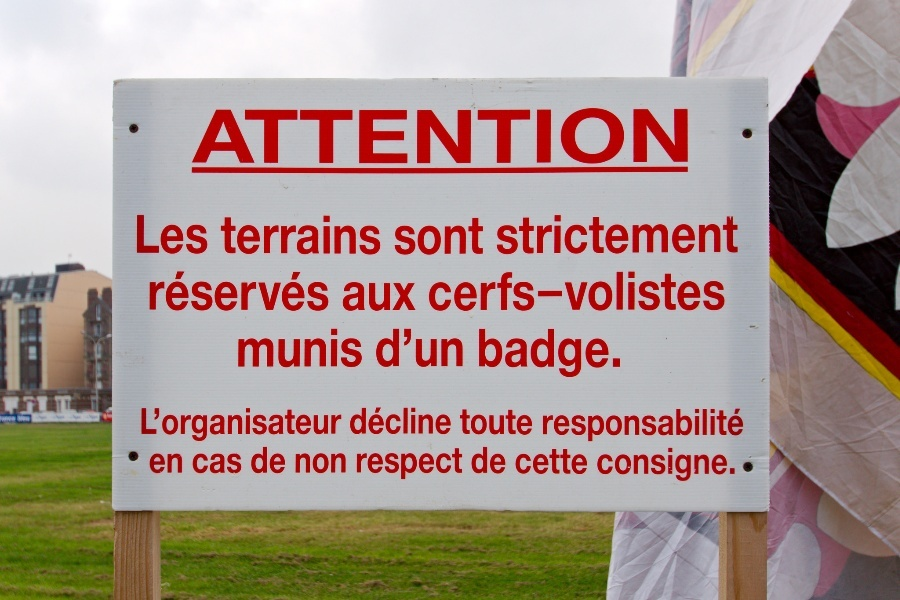text: (209, 106, 224, 168), (225, 106, 240, 168), (241, 106, 256, 168), (257, 106, 272, 168), (273, 106, 288, 168), (289, 106, 304, 168), (305, 106, 320, 168), (321, 106, 336, 168), (337, 106, 352, 168), (353, 106, 368, 168), (369, 106, 384, 168), (385, 106, 400, 168), (401, 106, 416, 168), (417, 106, 432, 168), (433, 106, 448, 168), (449, 106, 464, 168), (465, 106, 480, 168), (481, 106, 496, 168), (497, 106, 512, 168), (513, 106, 528, 168), (529, 106, 544, 168), (545, 106, 560, 168), (561, 106, 576, 168), (577, 106, 592, 168), (593, 106, 608, 168), (609, 106, 624, 168), (625, 106, 640, 168), (641, 106, 656, 168), (657, 106, 672, 168), (673, 106, 688, 168), (609, 324, 625, 380), (481, 324, 496, 380), (497, 324, 512, 380), (513, 324, 528, 380), (529, 324, 544, 380), (545, 324, 560, 380), (561, 324, 576, 380), (577, 324, 592, 380), (593, 324, 608, 380), (433, 269, 448, 315), (449, 269, 464, 315), (465, 269, 480, 315), (481, 269, 496, 315), (497, 269, 512, 315), (513, 269, 528, 315), (529, 269, 544, 315), (545, 269, 560, 315), (561, 269, 576, 315), (577, 269, 592, 315), (593, 269, 608, 315), (609, 269, 624, 315), (625, 269, 640, 315), (641, 269, 656, 315), (657, 269, 672, 315), (673, 269, 688, 315), (689, 269, 704, 315), (705, 269, 720, 315), (385, 324, 400, 370), (401, 324, 416, 370), (417, 324, 432, 370), (433, 324, 448, 370), (449, 324, 464, 370), (225, 212, 240, 257), (241, 212, 256, 257), (257, 212, 272, 257), (273, 212, 288, 257), (289, 212, 304, 257), (305, 212, 320, 257), (321, 212, 336, 257), (337, 212, 352, 257), (353, 212, 368, 257), (161, 269, 176, 313), (177, 269, 192, 313), (193, 269, 208, 313), (209, 269, 224, 313), (225, 269, 240, 313), (241, 269, 256, 313), (257, 269, 272, 313), (273, 269, 288, 313), (289, 269, 304, 313), (305, 269, 320, 313), (465, 399, 480, 441), (481, 399, 496, 441), (497, 399, 512, 441), (513, 399, 528, 441), (497, 215, 512, 257), (513, 215, 528, 257), (529, 215, 544, 257), (545, 215, 560, 257), (561, 215, 576, 257), (577, 215, 592, 257), (593, 215, 608, 257), (609, 215, 624, 257), (625, 215, 640, 257), (641, 215, 656, 257), (657, 215, 672, 257), (673, 215, 688, 257), (689, 215, 704, 257), (705, 215, 720, 257), (721, 215, 736, 257), (145, 214, 160, 256), (161, 214, 176, 256), (177, 214, 192, 256), (193, 214, 208, 256), (241, 327, 256, 369), (257, 327, 272, 369), (273, 327, 288, 369), (289, 327, 304, 369), (305, 327, 320, 369), (321, 327, 336, 369), (337, 327, 352, 369), (198, 106, 208, 168), (369, 212, 382, 257), (401, 216, 416, 255), (417, 216, 432, 255), (433, 216, 448, 255), (449, 216, 464, 255), (465, 216, 480, 255), (147, 269, 160, 313), (369, 446, 384, 484), (385, 446, 400, 484), (401, 446, 416, 484), (417, 446, 432, 484), (433, 446, 448, 484), (449, 446, 464, 484), (145, 406, 160, 444), (161, 406, 176, 444), (177, 406, 192, 444), (193, 406, 208, 444), (209, 406, 224, 444), (225, 406, 240, 444), (241, 406, 256, 444), (257, 406, 272, 444), (273, 406, 288, 444), (289, 406, 304, 444), (305, 406, 320, 444), (321, 406, 336, 444), (609, 446, 624, 483), (625, 446, 640, 483), (641, 446, 656, 483), (657, 446, 672, 483), (673, 446, 688, 483), (689, 446, 704, 483), (705, 446, 720, 483), (721, 446, 736, 483), (545, 407, 560, 443), (561, 407, 576, 443), (577, 407, 592, 443), (593, 407, 608, 443), (609, 407, 624, 443), (625, 407, 640, 443), (641, 407, 656, 443), (657, 407, 672, 443), (673, 407, 688, 443), (689, 407, 704, 443), (705, 407, 720, 443), (721, 407, 736, 443), (401, 281, 417, 312), (355, 446, 368, 484), (353, 406, 368, 437), (369, 406, 384, 437), (385, 406, 400, 437), (401, 406, 416, 437), (417, 406, 432, 437), (433, 406, 448, 437), (353, 281, 368, 312), (369, 281, 384, 312), (385, 281, 400, 312), (481, 445, 496, 476), (529, 446, 544, 477), (545, 446, 560, 477), (561, 446, 576, 477), (353, 327, 364, 369), (257, 445, 272, 474), (597, 446, 608, 483), (273, 445, 287, 474), (515, 446, 528, 477), (321, 269, 330, 313), (529, 399, 538, 441), (577, 446, 589, 477), (376, 324, 384, 370), (305, 452, 320, 475), (321, 452, 336, 475), (136, 214, 144, 256), (161, 453, 176, 475), (193, 452, 208, 474), (209, 452, 224, 474), (225, 452, 240, 474), (465, 324, 472, 370), (392, 216, 400, 255), (497, 445, 507, 476), (343, 281, 352, 312), (721, 269, 727, 315), (337, 406, 344, 444), (458, 399, 464, 441), (737, 407, 744, 443), (472, 445, 480, 476), (294, 452, 304, 475), (138, 406, 144, 444), (219, 212, 224, 257), (150, 453, 160, 475), (737, 215, 742, 257), (337, 452, 346, 475), (177, 453, 186, 475), (689, 106, 692, 168), (236, 327, 240, 369), (449, 406, 454, 437), (251, 445, 256, 474), (1, 415, 16, 424), (17, 415, 32, 424), (481, 216, 484, 255), (478, 324, 480, 380), (737, 446, 740, 483), (430, 269, 432, 315), (465, 446, 467, 484), (241, 452, 243, 474), (209, 214, 210, 256), (543, 407, 544, 443)
